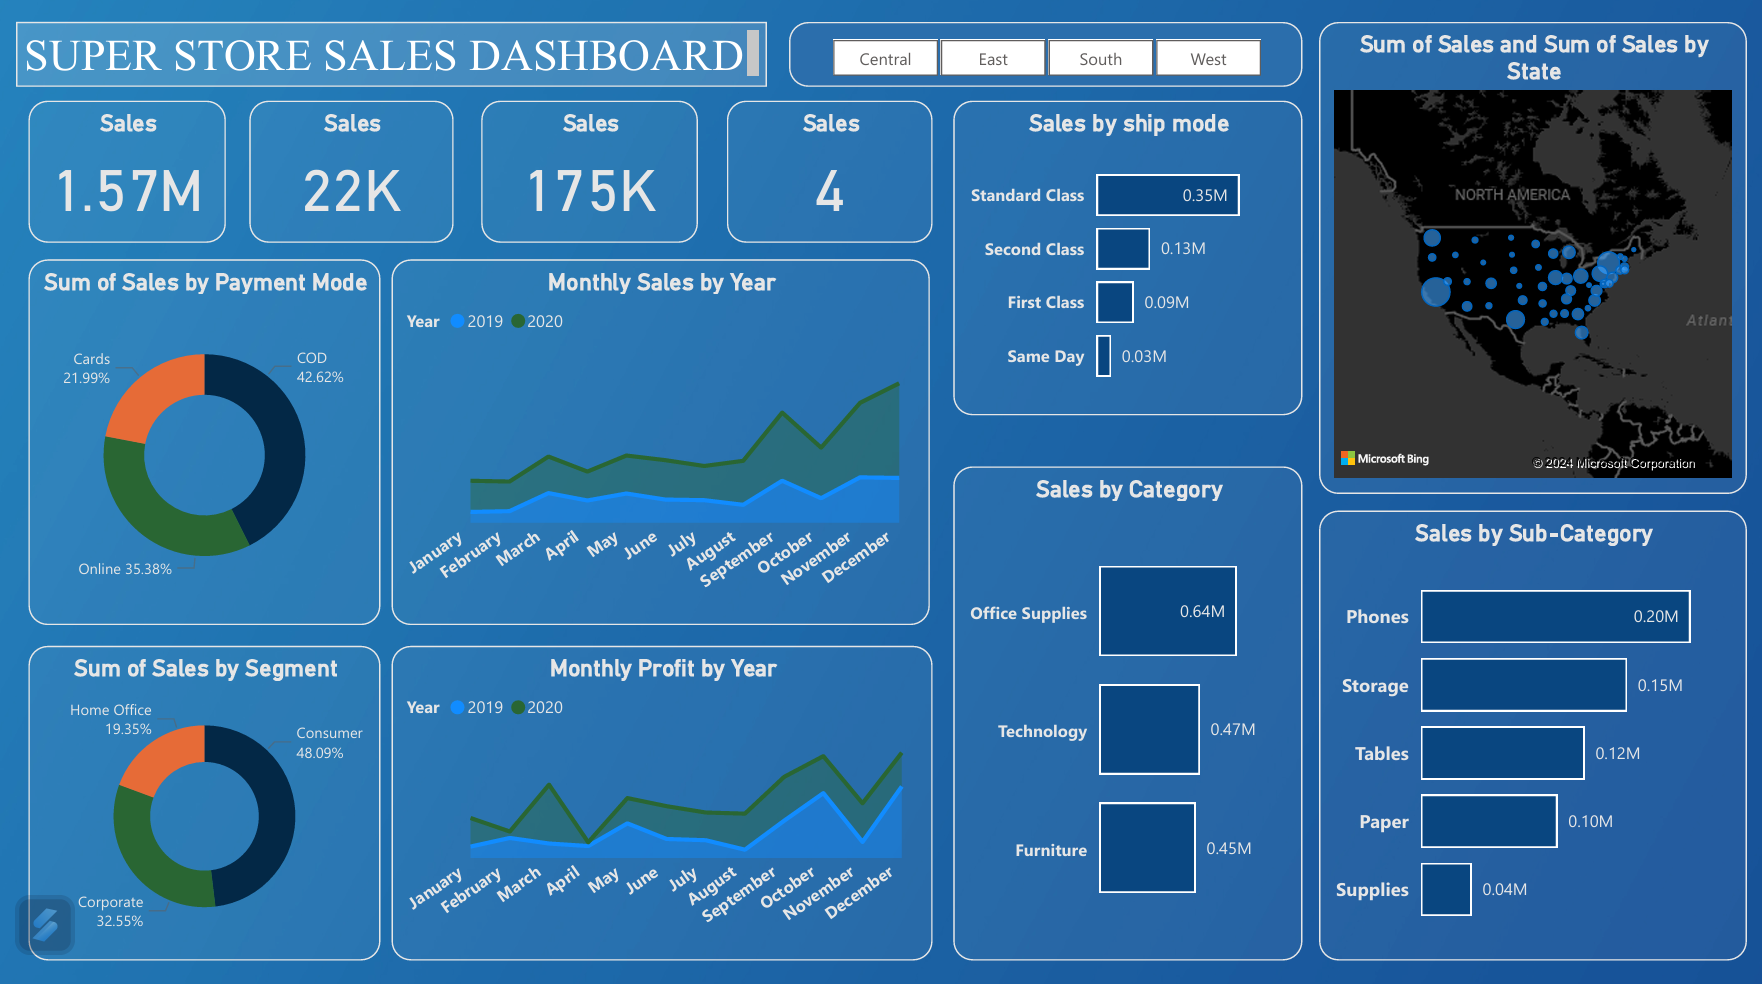

The dashboard page shown, as its layout file describes it:
{"tool":"powerbi","page":{"name":"Page 1","canvas":[1280,720],"ordinal":0},"visuals":[{"type":"barChart","title":"Sales by Category","fields":{"Category":["Sheet1.Category"],"Y":["Sum(Sheet1.Sales)"]},"box":[691.7,340,253.3,358.3],"z":0},{"type":"barChart","title":" Sales by Sub-Category","fields":{"Category":["Sheet1.Sub-Category"],"Y":["Sum(Sheet1.Sales)"]},"box":[956.7,371.7,310,326.7],"z":1},{"type":"barChart","title":" Sales by ship mode","fields":{"Category":["Sheet1.Ship Mode"],"Y":["Sum(Sheet1.Sales)"]},"box":[691.7,75,253.3,228.3],"z":2},{"type":"stackedAreaChart","title":"Monthly Sales by Year","fields":{"Category":["Sheet1.Order Date.Variation.Date Hierarchy.Month"],"Y":["Sum(Sheet1.Sales)"],"Series":["Sheet1.Order Date.Variation.Date Hierarchy.Year"]},"box":[285,190,390,265],"z":3},{"type":"stackedAreaChart","title":"Monthly Profit by Year","fields":{"Category":["Sheet1.Order Date.Variation.Date Hierarchy.Month"],"Y":["Sum(Sheet1.Profit)"],"Series":["Sheet1.Order Date.Variation.Date Hierarchy.Year"]},"box":[285,470,391.7,228.3],"z":4},{"type":"map","fields":{"Category":["Sheet1.State"],"Size":["Sum(Sheet1.Sales)"]},"box":[956.7,18.3,310,341.7],"z":5},{"type":"donutChart","fields":{"Category":["Sheet1.Segment"],"Y":["Sum(Sheet1.Sales)"]},"box":[21.7,470,255,228.3],"z":6},{"type":"donutChart","fields":{"Category":["Sheet1.Payment Mode"],"Y":["Sum(Sheet1.Sales)"]},"box":[21.7,190,255,265],"z":7},{"type":"slicer","fields":{"Values":["Sheet1.Region"]},"box":[573.3,18.3,371.7,46.7],"z":8},{"type":"textbox","box":[13.3,18.3,543.3,46.7],"z":9},{"type":"card","title":"Sales","fields":{"Values":["Sum(Sheet1.Sales)"]},"box":[21.7,75,143.3,103.3],"z":10},{"type":"card","title":"Sales","fields":{"Values":["Sum(Sheet1.Quantity)"]},"box":[181.7,75,148.3,103.3],"z":11},{"type":"card","title":"Sales","fields":{"Values":["Sum(Sheet1.Profit)"]},"box":[350,75,156.7,103.3],"z":12},{"type":"card","title":"Sales","fields":{"Values":["Avg(Sheet1.Average delivery)"]},"box":[528.3,75,148.3,103.3],"z":13}]}

Visuals, with their boxes in screenshot pixels (x1, y1, x2, y2), scaled from the page's 1280x720 canvas onto the 1762x984 screenshot:
"Sales by Category" barChart: [left=952, top=465, right=1301, bottom=954]
" Sales by Sub-Category" barChart: [left=1317, top=508, right=1744, bottom=954]
" Sales by ship mode" barChart: [left=952, top=102, right=1301, bottom=415]
"Monthly Sales by Year" stackedAreaChart: [left=392, top=260, right=929, bottom=622]
"Monthly Profit by Year" stackedAreaChart: [left=392, top=642, right=932, bottom=954]
map - Sheet1.State x Sum(Sheet1.Sales): [left=1317, top=25, right=1744, bottom=492]
donutChart - Sheet1.Segment x Sum(Sheet1.Sales): [left=30, top=642, right=381, bottom=954]
donutChart - Sheet1.Payment Mode x Sum(Sheet1.Sales): [left=30, top=260, right=381, bottom=622]
slicer - Sheet1.Region: [left=789, top=25, right=1301, bottom=89]
textbox: [left=18, top=25, right=766, bottom=89]
"Sales" card: [left=30, top=102, right=227, bottom=244]
"Sales" card: [left=250, top=102, right=454, bottom=244]
"Sales" card: [left=482, top=102, right=698, bottom=244]
"Sales" card: [left=727, top=102, right=931, bottom=244]
